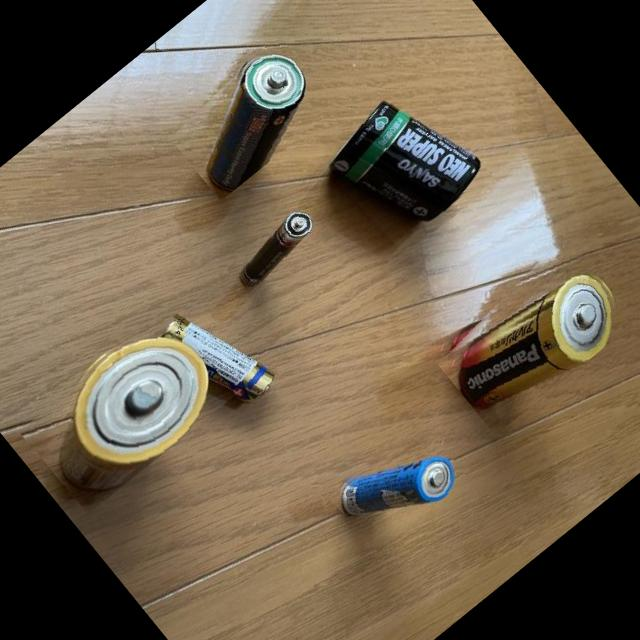Hazard: (12, 304, 235, 516), (425, 234, 638, 436), (313, 76, 497, 262), (160, 35, 337, 202), (143, 284, 290, 436), (324, 418, 468, 556), (226, 199, 336, 300)
